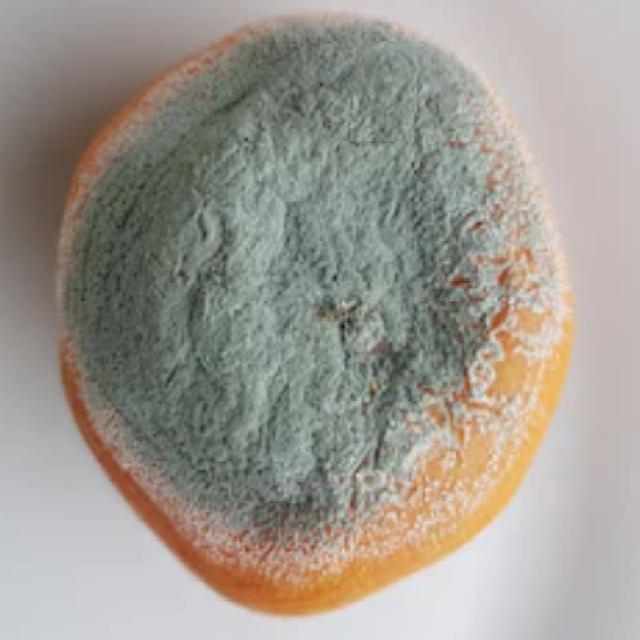sangat_busuk: (60, 8, 577, 621)
